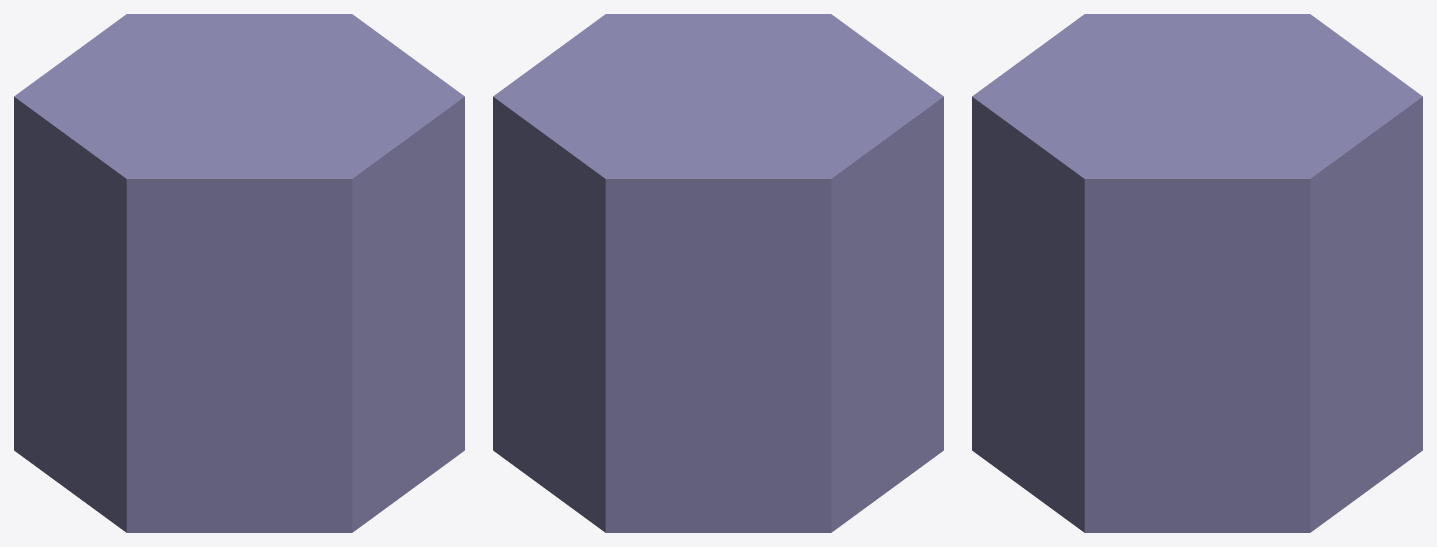
Rendered from Untitled-1-unchanged.glb.
The picture shows the model from 3 angles, left to right: view 1: azimuth 30°, elevation 25°; view 2: azimuth 150°, elevation 25°; view 3: azimuth 270°, elevation 25°; orthographic projection.
Parts seen in each view (by area): view 1: hexagon; view 2: hexagon; view 3: hexagon.
Part boxes in pixels (x1,y1,x2,y2): hexagon: [14, 14, 464, 532]; hexagon: [493, 14, 943, 532]; hexagon: [972, 14, 1422, 532].
Size of the model in its own units: 1 by 1 by 1.15.
